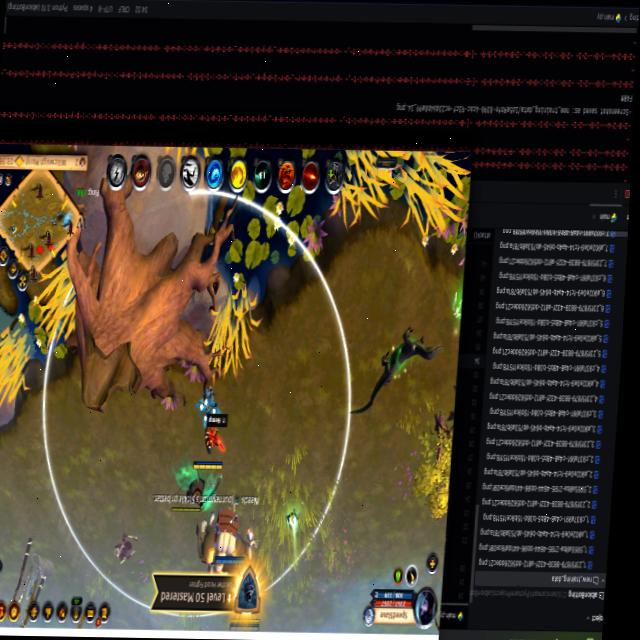hide: (193, 385, 225, 430)
ore: (345, 307, 447, 429)
red: (208, 488, 253, 570)
